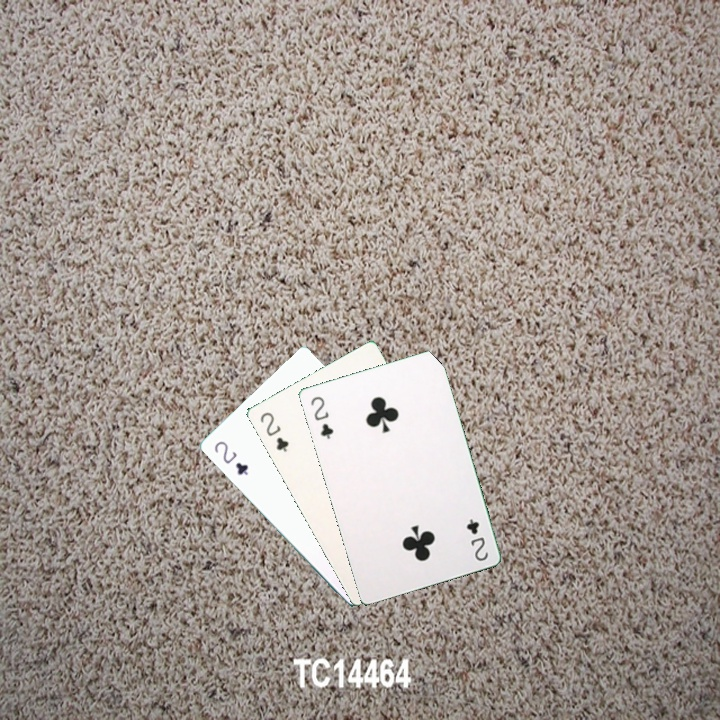2c: (210, 437, 251, 478), (256, 408, 291, 455), (307, 392, 336, 442), (462, 515, 491, 564)
